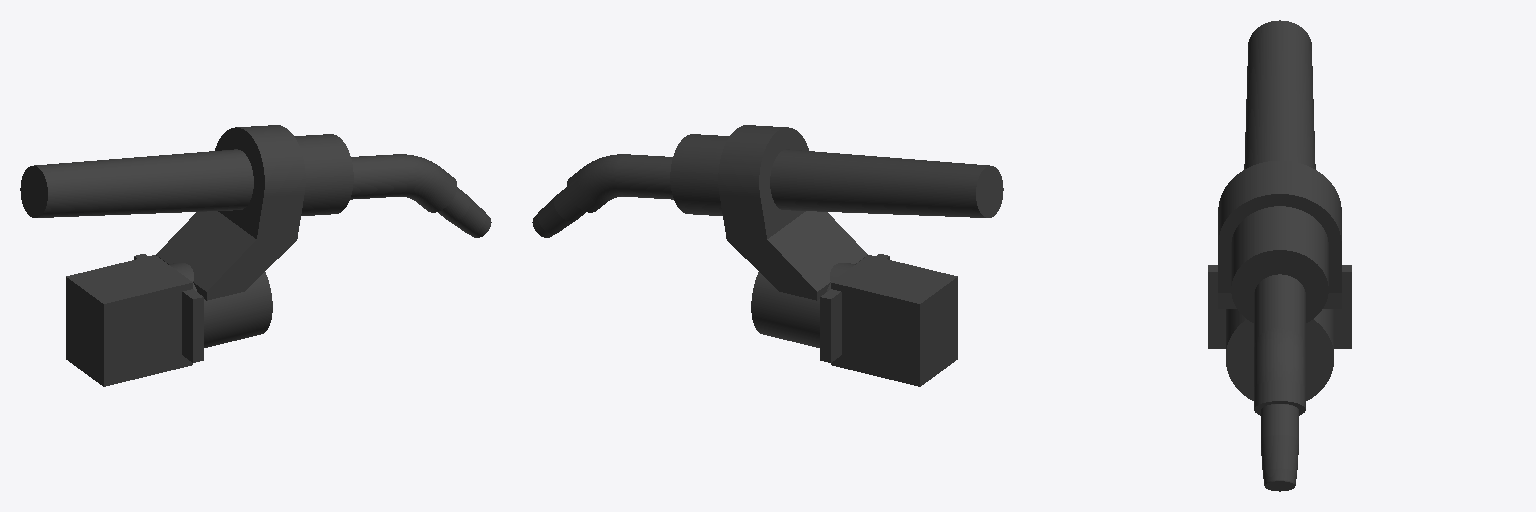
URDF robot description (kuka_kr16_2):
<?xml version="1.0" ?>
<!-- =================================================================================== -->
<!-- |    This document was autogenerated by xacro from kr16_2.xacro                   | -->
<!-- |    EDITING THIS FILE BY HAND IS NOT RECOMMENDED                                 | -->
<!-- =================================================================================== -->
<!--Generates a urdf from the macro in kr16_2_macro.xacro -->
<robot name="kuka_kr16_2" xmlns:xacro="http://wiki.ros.org/xacro">
  <!-- LINKS -->
  <!-- base link -->
  <link name="base_link">
    <inertial>
      <origin rpy="0 0 0" xyz="0 0 0"/>
      <mass value="2"/>
      <inertia ixx="0.01" ixy="0" ixz="0" iyy="0.01" iyz="0" izz="0.01"/>
    </inertial>
    <visual>
      <origin rpy="0 0 0" xyz="0 0 0"/>
      <geometry>
        <mesh filename="../meshes/visual/base_link.dae"/>
      </geometry>
      <material name="Gray">
        <color rgba="0.3 0.3 0.3 1.0"/>
      </material>
    </visual>
    <!--collision>
      <origin rpy="0 0 0" xyz="0 0 0"/>
      <geometry>
        <mesh filename="package://kuka_kr16_support/meshes/kr16_2/collision/base_link.stl"/>
      </geometry>
    </collision-->
  </link>
  <!-- link 1 (A1) -->
  <link name="link_1">
    <inertial>
      <origin rpy="0 0 0" xyz="0 0 0"/>
      <mass value="2"/>
      <inertia ixx="0.01" ixy="0" ixz="0" iyy="0.01" iyz="0" izz="0.01"/>
    </inertial>
    <visual>
      <origin rpy="0 0 0" xyz="0 0 0"/>
      <geometry>
        <mesh filename="../meshes/visual/link_1.dae"/>
      </geometry>
      <material name="Orange">
        <color rgba="0.9 0.5 0.0 1.0"/>
      </material>
    </visual>
    <!--collision>
      <origin rpy="0 0 0" xyz="0 0 0"/>
      <geometry>
        <mesh filename="package://kuka_kr16_support/meshes/kr16_2/collision/link_1.stl"/>
      </geometry>
    </collision-->
  </link>
  <!-- link 2 -->
  <link name="link_2">
    <inertial>
      <origin rpy="0 0 0" xyz="0 0 0"/>
      <mass value="2"/>
      <inertia ixx="0.01" ixy="0" ixz="0" iyy="0.01" iyz="0" izz="0.01"/>
    </inertial>
    <visual>
      <origin rpy="0 0 0" xyz="0 0 0"/>
      <geometry>
        <mesh filename="../meshes/visual/link_2.dae"/>
      </geometry>
      <material name="Gray">
        <color rgba="0.3 0.3 0.3 1.0"/>
      </material>
    </visual>
    <!--collision>
      <origin rpy="0 0 0" xyz="0 0 0"/>
      <geometry>
        <mesh filename="package://kuka_kr16_support/meshes/kr16_2/collision/link_2.stl"/>
      </geometry>
    </collision-->
  </link>
  <!-- link 3 -->
  <link name="link_3">
    <inertial>
      <origin rpy="0 0 0" xyz="0 0 0"/>
      <mass value="2"/>
      <inertia ixx="0.01" ixy="0" ixz="0" iyy="0.01" iyz="0" izz="0.01"/>
    </inertial>
    <visual>
      <origin rpy="0 0 0" xyz="0 0 0"/>
      <geometry>
        <mesh filename="../meshes/visual/link_3.dae"/>
      </geometry>
      <material name="Orange">
        <color rgba="0.9 0.5 0.0 1.0"/>
      </material>
    </visual>
    <!--collision>
      <origin rpy="0 0 0" xyz="0 0 0"/>
      <geometry>
        <mesh filename="package://kuka_kr16_support/meshes/kr16_2/collision/link_3.stl"/>
      </geometry>
    </collision-->
  </link>
  <!-- link 4 -->
  <link name="link_4">
    <inertial>
      <origin rpy="0 0 0" xyz="0 0 0"/>
      <mass value="2"/>
      <inertia ixx="0.01" ixy="0" ixz="0" iyy="0.01" iyz="0" izz="0.01"/>
    </inertial>
    <visual>
      <origin rpy="0 0 0" xyz="0 0 0"/>
      <geometry>
        <mesh filename="../meshes/visual/link_4.dae"/>
      </geometry>
      <material name="Gray">
        <color rgba="0.3 0.3 0.3 1.0"/>
      </material>
    </visual>
    <!--collision>
      <origin rpy="0 0 0" xyz="0 0 0"/>
      <geometry>
        <mesh filename="package://kuka_kr16_support/meshes/kr16_2/collision/link_4.stl"/>
      </geometry>
    </collision-->
  </link>
  <!-- link 5 -->
  <link name="link_5">
    <inertial>
      <origin rpy="0 0 0" xyz="0 0 0"/>
      <mass value="2"/>
      <inertia ixx="0.01" ixy="0" ixz="0" iyy="0.01" iyz="0" izz="0.01"/>
    </inertial>
    <visual>
      <origin rpy="0 0 0" xyz="0 0 0"/>
      <geometry>
        <mesh filename="../meshes/visual/link_5.dae"/>
      </geometry>
      <material name="Orange">
        <color rgba="0.9 0.5 0.0 1.0"/>
      </material>
    </visual>
    <!--collision>
      <origin rpy="0 0 0" xyz="0 0 0"/>
      <geometry>
        <mesh filename="package://kuka_kr16_support/meshes/kr16_2/collision/link_5.stl"/>
      </geometry>
    </collision-->
  </link>
  <!-- link 6 -->
  <link name="link_6">
    <inertial>
      <origin rpy="0 0 0" xyz="0 0 0"/>
      <mass value="2"/>
      <inertia ixx="0.01" ixy="0" ixz="0" iyy="0.01" iyz="0" izz="0.01"/>
    </inertial>
    <visual>
      <origin rpy="0 0 0" xyz="0 0 0"/>
      <geometry>
        <mesh filename="../meshes/visual/link_6.dae"/>
      </geometry>
      <material name="Gray">
        <color rgba="0.3 0.3 0.3 1.0"/>
      </material>
    </visual>
    <!--collision>
      <origin rpy="0 0 0" xyz="0 0 0"/>
      <geometry>
        <mesh filename="package://kuka_kr16_support/meshes/kr16_2/collision/link_6.stl"/>
      </geometry>
    </collision-->
  </link>
  <!-- tool 0 -->
  <!-- This frame corresponds to the $FLANGE coordinate system in KUKA KRC controllers. -->
  <link name="torch">
    <visual>
      <geometry>
        <mesh filename="../meshes/visual/MRW510_10GH.dae"/>
      </geometry>
      <material name="Gray">
        <color rgba="0.3 0.3 0.3 1.0"/>
      </material>
      <origin rpy="0 0 0" xyz="0 0 0"/>
    </visual>
    <collision>
      <geometry>
        <mesh filename="../meshes/collision/MRW510_10GH.dae"/>
      </geometry>
      <origin rpy="0 0 0" xyz="0 0 0"/>
    </collision>
    <inertial>
      <mass value="0.2"/>
      <origin rpy="0 0 0" xyz="0.0 0.0 0.0"/>
      <inertia ixx="0.05" ixy="0.0" ixz="0.0" iyy="0.01" iyz="0.0" izz="0.2"/>
    </inertial>
  </link>
  <!-- END LINKS -->
  <!-- JOINTS -->
  <!-- joint 1 (A1) -->
  <joint name="joint_a1" type="revolute">
    <origin rpy="0 0 0" xyz="0 0 0.675"/>
    <parent link="base_link"/>
    <child link="link_1"/>
    <axis xyz="0 0 -1"/>
    <limit effort="300.0" lower="-3.22885911619" upper="3.22885911619" velocity="10"/>
    <dynamics damping="0.5" friction="0.0"/>
  </joint>
  <!-- joint 2 (A2) -->
  <joint name="joint_a2" type="revolute">
    <origin rpy="0 0 0" xyz="0.26 0 0"/>
    <parent link="link_1"/>
    <child link="link_2"/>
    <axis xyz="0 1 0"/>
    <limit effort="300.0" lower="-2.70526034059" upper="0.610865238198" velocity="10"/>
    <dynamics damping="0.5" friction="0.0"/>
  </joint>
  <!-- joint 3 (A3) -->
  <joint name="joint_a3" type="revolute">
    <origin rpy="0 0 0" xyz="0.68 0 0"/>
    <parent link="link_2"/>
    <child link="link_3"/>
    <axis xyz="0 1 0"/>
    <limit effort="300.0" lower="-2.26892802759" upper="2.68780704807" velocity="10"/>
    <dynamics damping="0.5" friction="0.0"/>
  </joint>
  <!-- joint 4 (A4) -->
  <joint name="joint_a4" type="revolute">
    <origin rpy="0 0 0" xyz="0.67 0 -0.035"/>
    <parent link="link_3"/>
    <child link="link_4"/>
    <axis xyz="-1 0 0"/>
    <limit effort="300.0" lower="-6.10865238198" upper="6.10865238198" velocity="5.75958653158"/>
    <dynamics damping="0.5" friction="0.0"/>
  </joint>
  <!-- joint 5 (A5) -->
  <joint name="joint_a5" type="revolute">
    <origin rpy="0 0 0" xyz="0 0 0"/>
    <parent link="link_4"/>
    <child link="link_5"/>
    <axis xyz="0 1 0"/>
    <limit effort="300.0" lower="-2.26892802759" upper="2.26892802759" velocity="5.75958653158"/>
    <dynamics damping="0.5" friction="0.0"/>
  </joint>
  <!-- joint 6 (A6) -->
  <joint name="joint_a6" type="revolute">
    <origin rpy="0 0 0" xyz="0 0 0"/>
    <parent link="link_5"/>
    <child link="link_6"/>
    <axis xyz="-1 0 0"/>
    <limit effort="300.0" lower="-6.10865238198" upper="6.10865238198" velocity="10.7337748998"/>
    <dynamics damping="0.5" friction="0.0"/>
  </joint>
  <!-- tool frame - fixed frame -->
 <joint name="torch_fixed_joint" type="fixed">
    <parent link="link_6"/>
    <child link="torch"/>
    <origin rpy="0.7854 0.0 -1.5708" xyz="0.65 0.0 0.0"/>
  </joint>
  <!-- END JOINTS -->
  <!-- ROS base_link to KUKA $ROBROOT coordinate system transform -->
  <!--link name="base"/>
  <joint name="base_link-base" type="fixed">
    <origin rpy="0 0 0" xyz="0 0 0"/>
    <parent link="base_link"/>
    <child link="base"/>
  </joint-->
</robot>

--- Facts derived from the render (not from the file) ---
Views: 3 orthographic renders of the robot side by side, from view 1: azimuth 30°, elevation 25°; view 2: azimuth 150°, elevation 25°; view 3: azimuth 270°, elevation 25°.
Model kuka_kr16_2 with 8 links and 7 joints (6 revolute, 1 fixed), rooted at base_link, posed all joints at 0.
Links seen in each view (by area): view 1: torch; view 2: torch; view 3: torch.
Link boxes in pixels (x1,y1,x2,y2): torch: (20,125,491,386); torch: (532,125,1003,386); torch: (1208,20,1351,491).
Size in the robot's own frame: 0.5605 by 0.1255 by 0.2533 metres.
1 mesh visuals loaded from 8 distinct referenced files (1 Collada DAE); not drawn: 7 (reference not matched to a file when rendering).